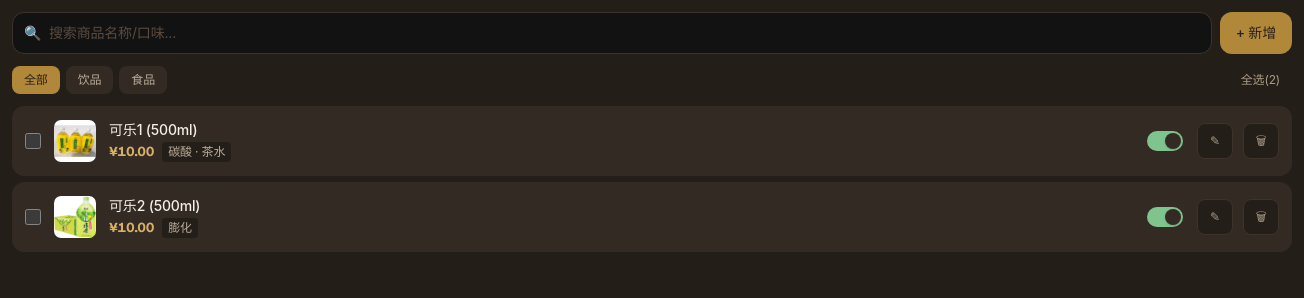
Test: 筛选与空态 › 搜索命中名称或规格；无匹配时给"无匹配结果"而非"暂无商品"
Step 1. Type "500ml" into the search field named "搜索商品名称或口味" → (612, 33), box 12,12 -> 1212,54
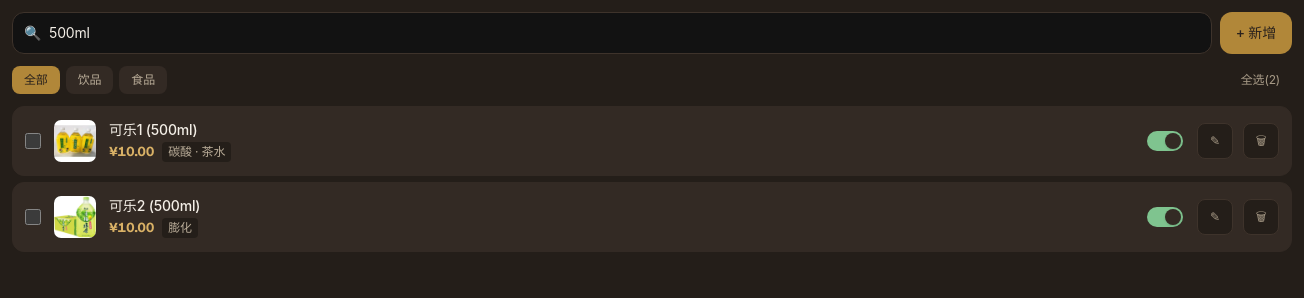
Expected: the number of checkboxes is 2, 25,133 -> 41,149; 25,209 -> 41,225
Step 2. Replace the text in the search field named "搜索商品名称或口味" with "不存在的关键词" → (612, 33), box 12,12 -> 1212,54
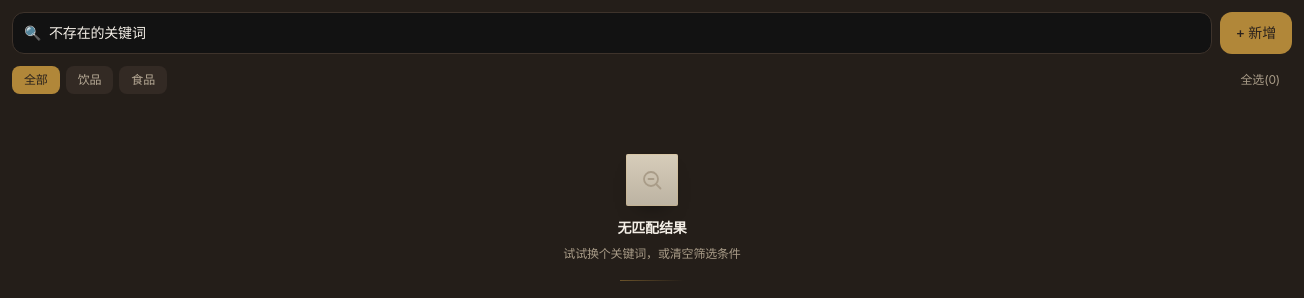
Expected: the text "无匹配结果" is shown, 617,218 -> 686,238
